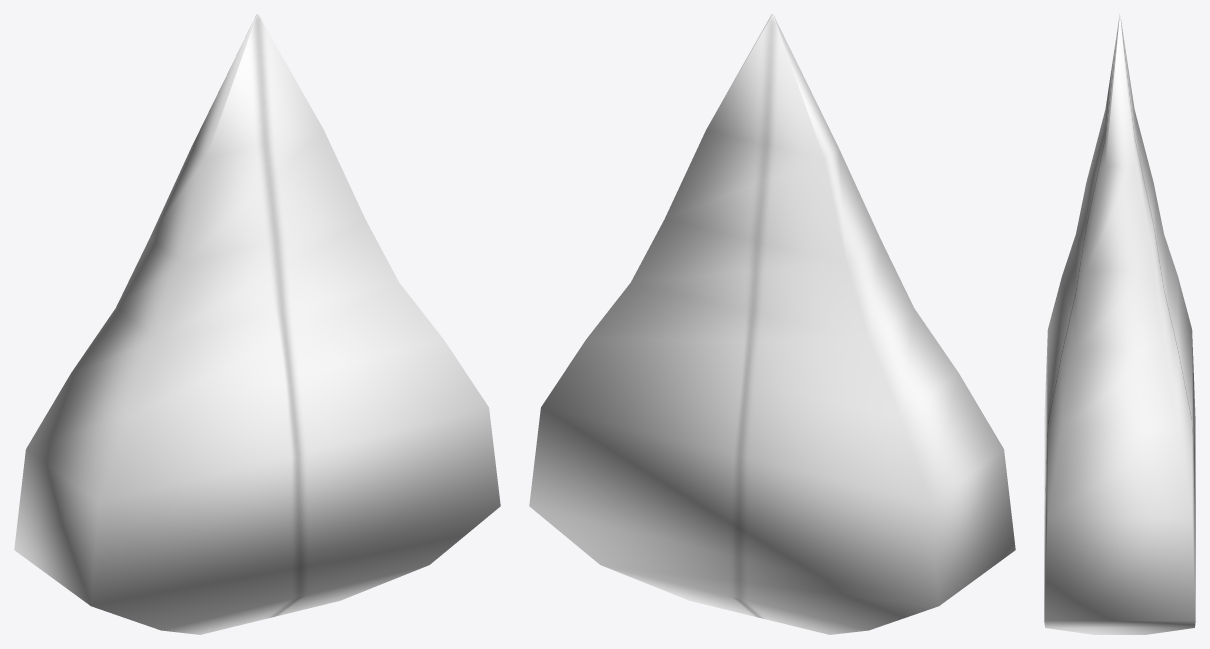
3 views of the same model, side by side, from view 1: azimuth 30°, elevation 25°; view 2: azimuth 150°, elevation 25°; view 3: azimuth 270°, elevation 25° (orthographic).
Visible parts, largest first — view 1: Cube; view 2: Cube; view 3: Cube.
Boxes of the visible parts, x1,y1,x2,y2 form: Cube: (14,14,500,634); Cube: (529,14,1015,634); Cube: (1044,14,1195,634).
Bounding box in the file's own units: 1.15 × 1.6 × 0.3733.
Materials: 1 (1 with a texture image).
